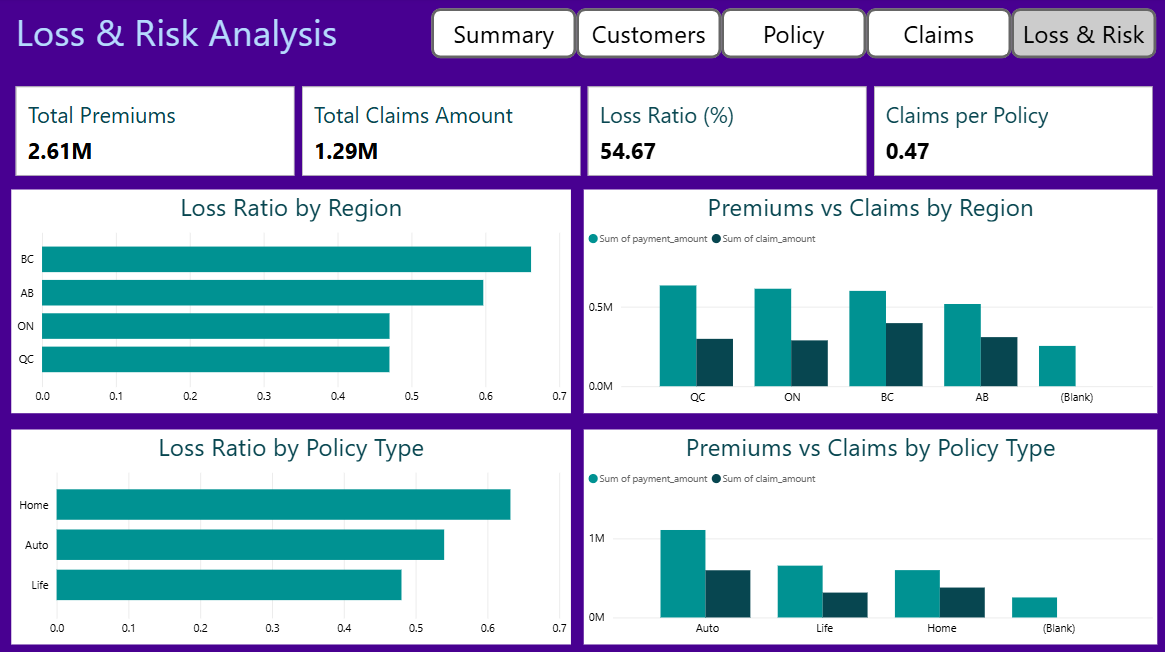

The page's visual inventory and layout, read from the dashboard file:
{"tool":"powerbi","page":{"name":"Loss & Risk Analysis","canvas":[1280,720],"ordinal":4},"visuals":[{"type":"cardVisual","fields":{"Data":["Sum(payments_clean.payment_amount)","Sum(claims_clean.claim_amount)","_measures.loss_ratio_percentage","_measures.claims_per_policy"]},"box":[12.3,93.3,1258.3,108.4],"z":0},{"type":"clusteredBarChart","title":"Loss Ratio by Region","fields":{"Category":["customers_clean.region"],"Y":["_measures.loss_ratio"]},"box":[12.3,211.3,614.8,245.6],"z":1000},{"type":"clusteredBarChart","title":"Loss Ratio by Policy Type","fields":{"Y":["_measures.loss_ratio"],"Category":["policies_clean.policy_type"]},"box":[12.3,474.8,614.8,236],"z":2000},{"type":"clusteredColumnChart","title":"Premiums vs Claims by Region","fields":{"Y":["Sum(payments_clean.payment_amount)","Sum(claims_clean.claim_amount)"],"Category":["customers_clean.region"]},"box":[640.8,211.3,629.8,245.6],"z":3000},{"type":"clusteredColumnChart","title":"Premiums vs Claims by Policy Type","fields":{"Y":["Sum(payments_clean.payment_amount)","Sum(claims_clean.claim_amount)"],"Category":["policies_clean.policy_type"]},"box":[640.8,474.8,629.8,236],"z":4000},{"type":"textbox","title":"Loss & Risk Analysis","box":[12.3,11,517.3,82.3],"z":5000},{"type":"actionButton","title":"Loss & Risk","box":[1110.1,12.3,159.2,54.9],"z":5001},{"type":"actionButton","title":"Loss & Risk","box":[950.9,12.3,159.2,54.9],"z":5002},{"type":"actionButton","title":"Loss & Risk","box":[791.8,12.3,159.2,54.9],"z":5003},{"type":"actionButton","title":"Loss & Risk","box":[632.6,12.3,159.2,54.9],"z":5004},{"type":"actionButton","title":"Loss & Risk","box":[473.4,12.3,159.2,54.9],"z":5005}]}

Visuals, with their boxes in screenshot pixels (x1, y1, x2, y2), scaled from the page's 1280x720 canvas onto the 1165x652 screenshot:
cardVisual - Sum(payments_clean.payment_amount) x Sum(claims_clean.claim_amount): bbox=[11, 84, 1156, 183]
"Loss Ratio by Region" clusteredBarChart: bbox=[11, 191, 571, 414]
"Loss Ratio by Policy Type" clusteredBarChart: bbox=[11, 430, 571, 644]
"Premiums vs Claims by Region" clusteredColumnChart: bbox=[583, 191, 1156, 414]
"Premiums vs Claims by Policy Type" clusteredColumnChart: bbox=[583, 430, 1156, 644]
"Loss & Risk Analysis" textbox: bbox=[11, 10, 482, 84]
"Loss & Risk" actionButton: bbox=[1010, 11, 1155, 61]
"Loss & Risk" actionButton: bbox=[865, 11, 1010, 61]
"Loss & Risk" actionButton: bbox=[721, 11, 866, 61]
"Loss & Risk" actionButton: bbox=[576, 11, 721, 61]
"Loss & Risk" actionButton: bbox=[431, 11, 576, 61]
